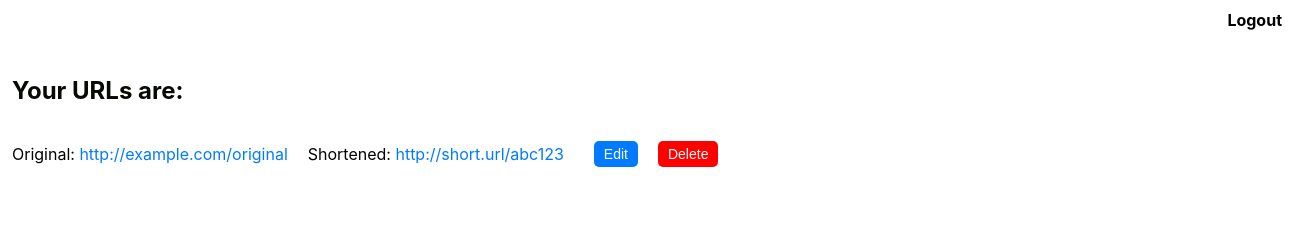
Test case: test page for MyUrlsPage component › testing TypeError handling during URL update
Expected: the link "http://example.com/original" is shown, 79,144 -> 288,164
Initiate an edit
Step 1. Click the button "Edit" → [616, 154], box 594,141 -> 638,167
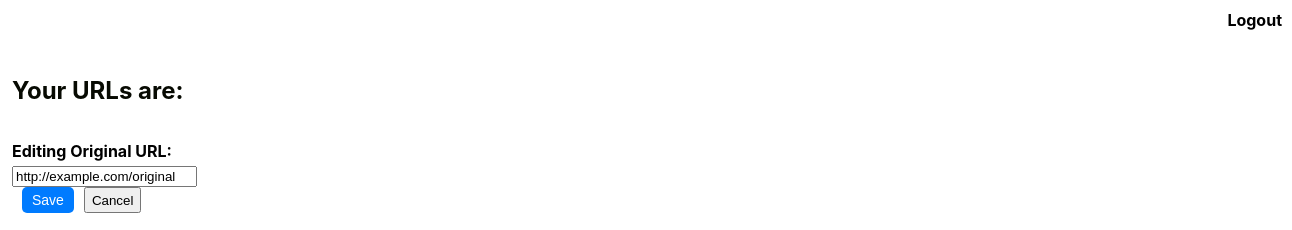
Step 2. Replace the text in the field showing "http://example.com/original" with "http://example.com/updated" → [104, 177], box 12,166 -> 197,187
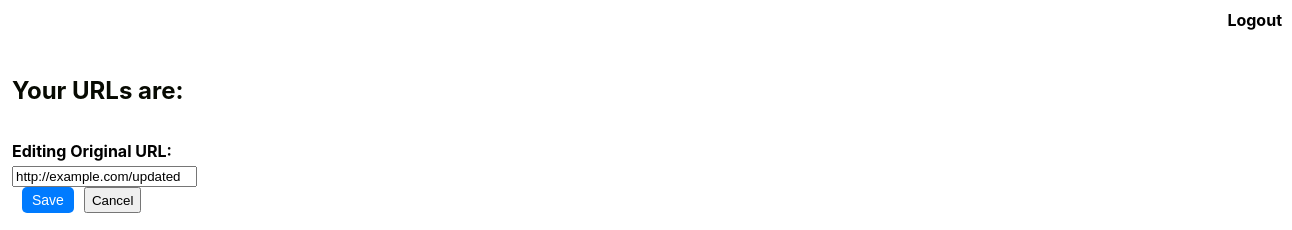
Attempt to save the update
Step 3. Click the button "Save" → [48, 200], box 22,187 -> 74,213
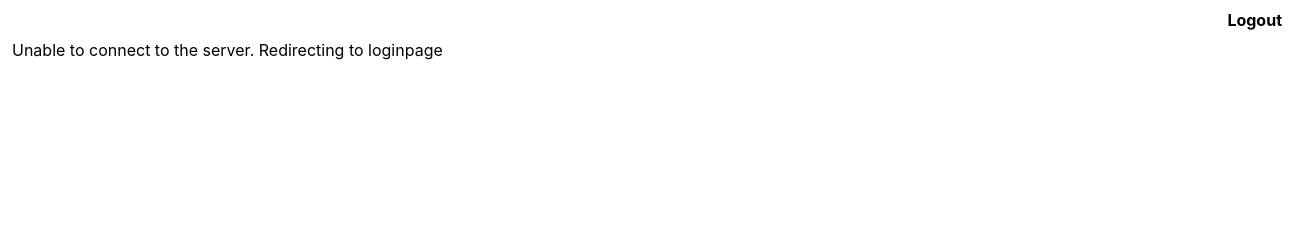
Expected: the text "Unable to connect to the server. Redirecting to loginpage" is shown, 12,40 -> 443,60
